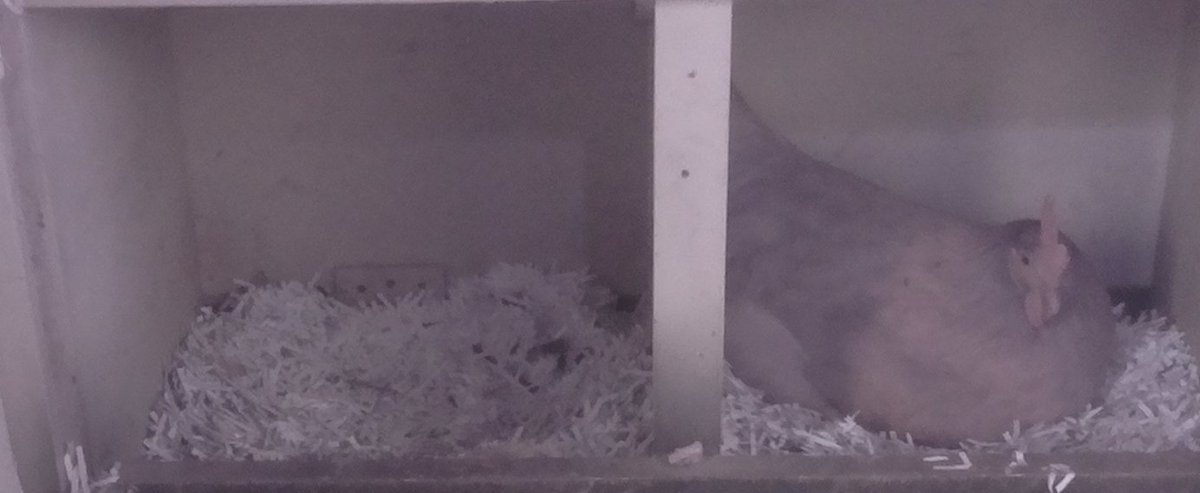hen: (731, 90, 1130, 450)
